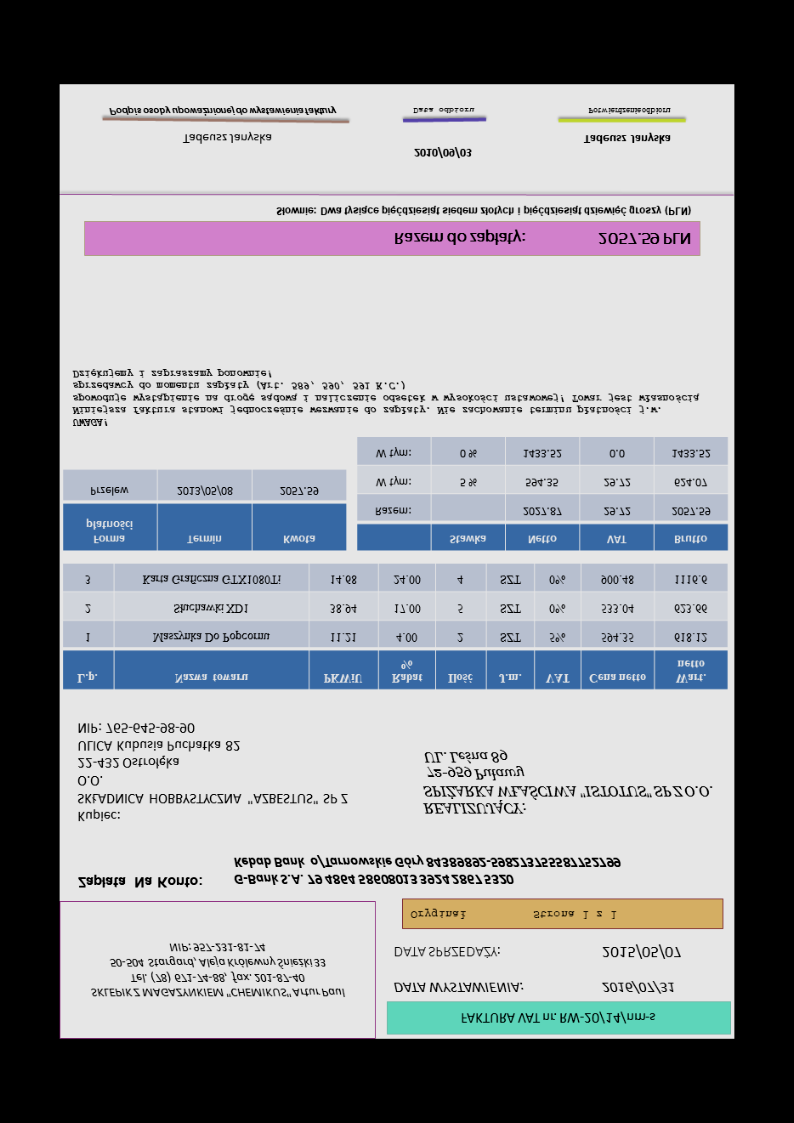Table: (61, 562, 729, 691), (355, 435, 728, 553), (61, 468, 348, 553)
TextBox: (71, 366, 704, 431), (74, 721, 350, 825), (419, 746, 716, 818), (86, 938, 348, 1004), (230, 853, 623, 889), (273, 202, 693, 220), (391, 229, 694, 252), (457, 1007, 657, 1030), (105, 104, 339, 122), (408, 905, 621, 924), (391, 979, 525, 998), (391, 942, 502, 963), (76, 874, 203, 892), (582, 130, 674, 149), (598, 942, 684, 962), (180, 131, 274, 148), (598, 979, 676, 997), (587, 104, 672, 117), (411, 145, 474, 162), (411, 104, 476, 117)
